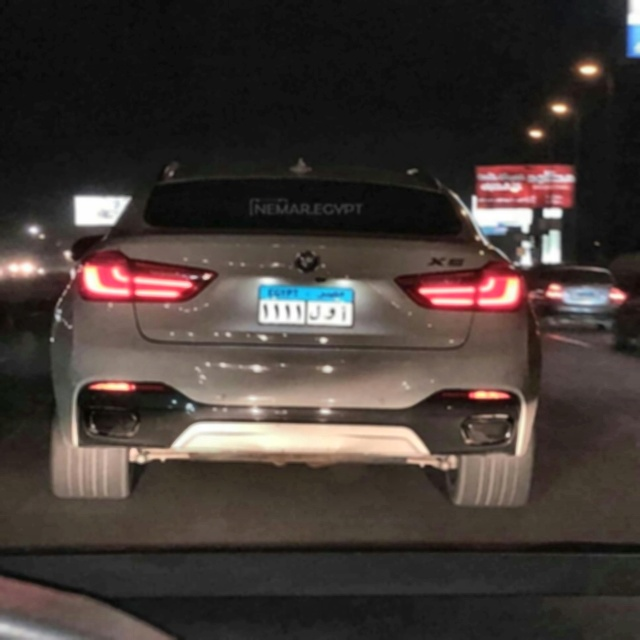License Plate: (255, 283, 357, 329)
